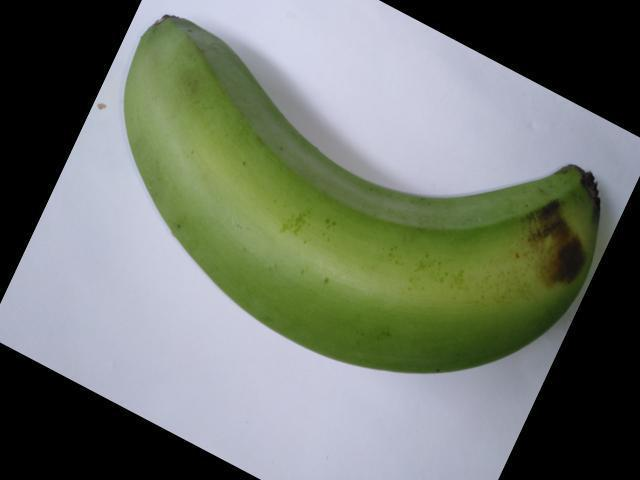freshunripe: (107, 12, 625, 388)
